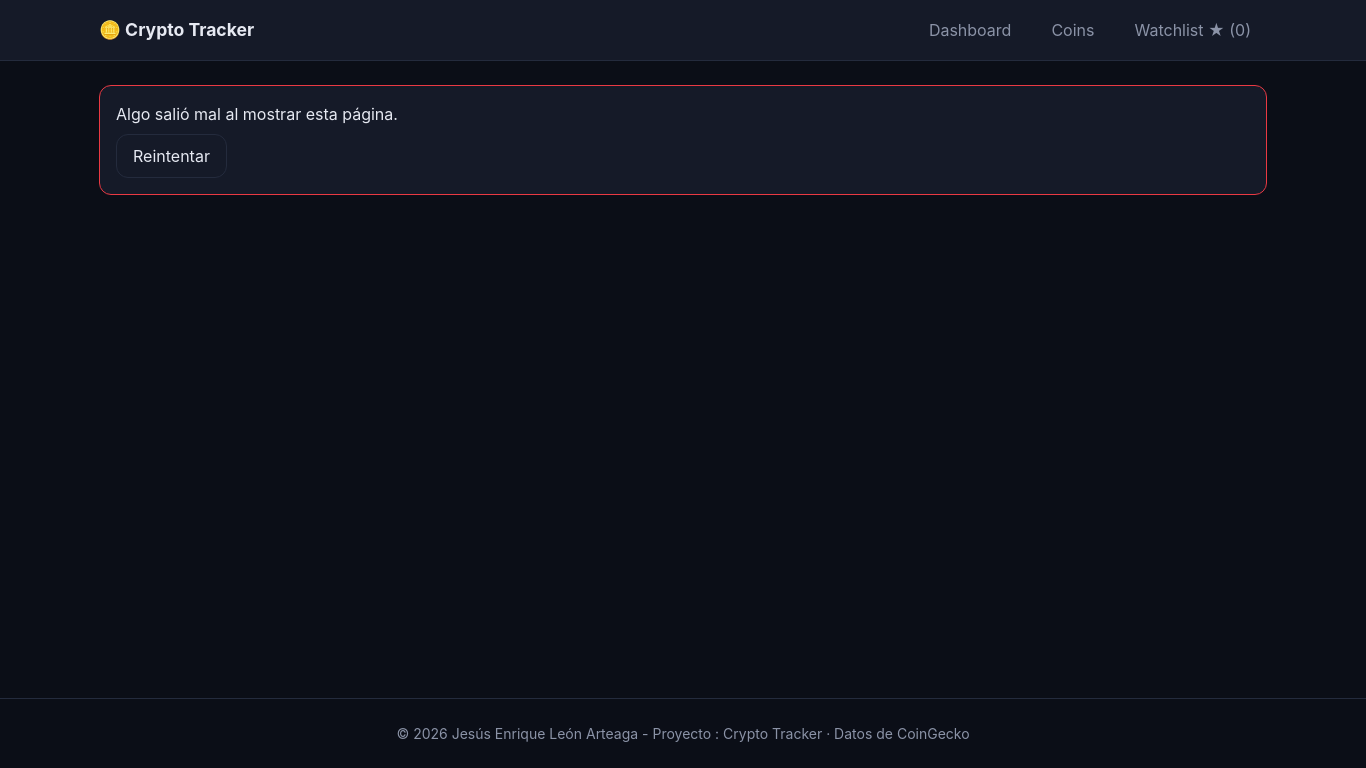
it: Layout › cuando una página falla al renderizar › se recupera al navegar a otra página
expect the message "Algo salió mal al mostrar esta página. Reintentar" is shown: met, box x1=99 y1=85 x2=1267 y2=195
Click the link "Coins". click: (1073, 30)
box: x1=1051 y1=20 x2=1094 y2=40
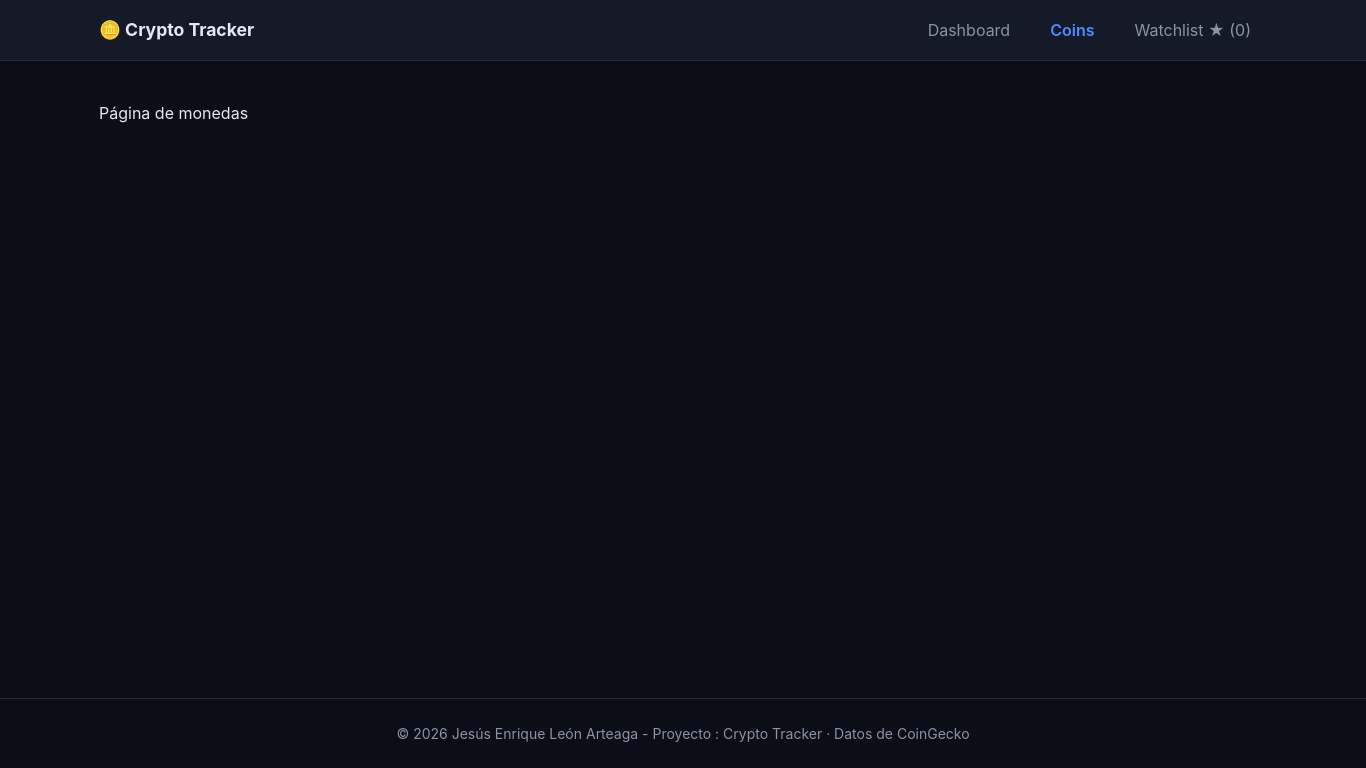
expect the message "Algo salió mal al mostrar esta página. Reintentar" is gone: met
expect the text "Página de monedas" is shown: met, box x1=99 y1=103 x2=248 y2=123
